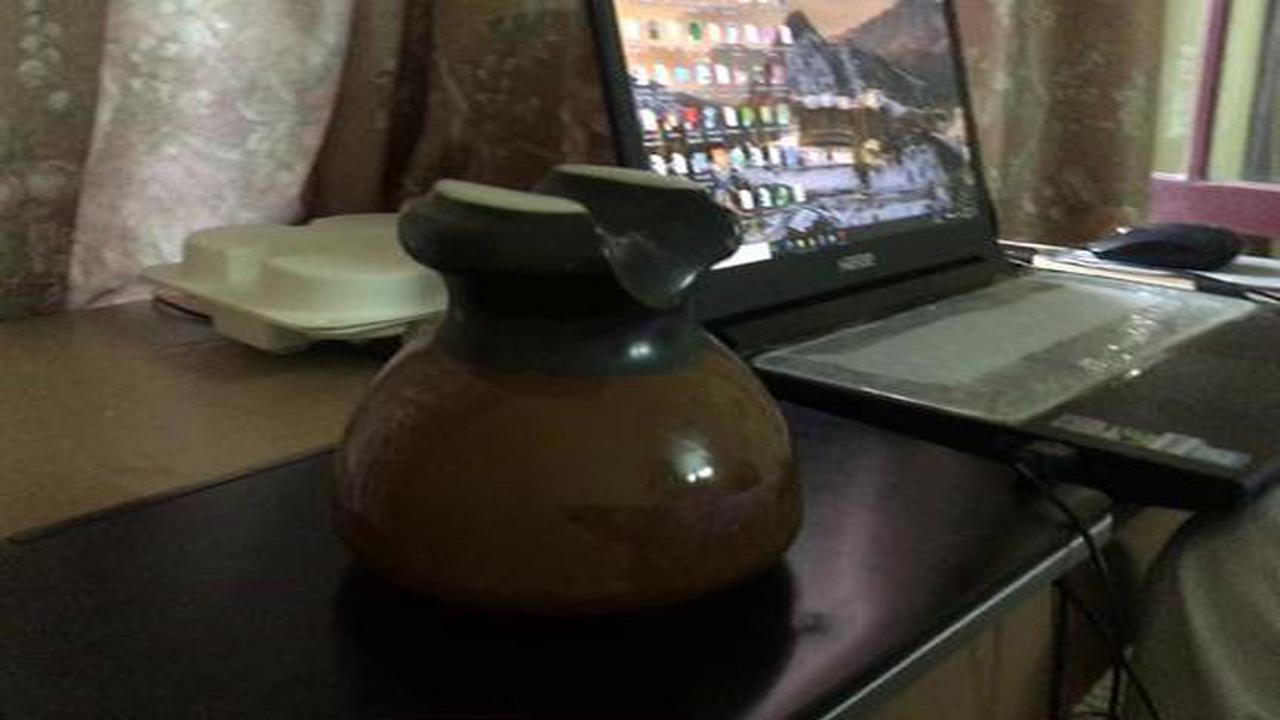insulator_pin: (321, 145, 813, 625)
